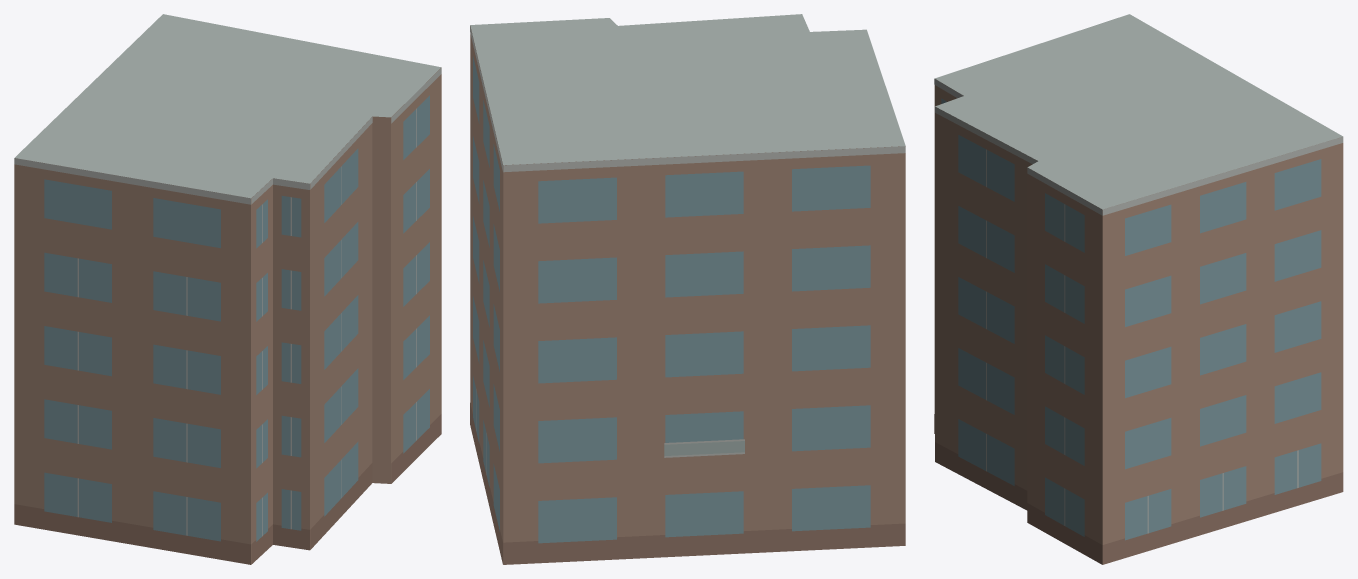
File: survey-upis-32744855.glb
The picture shows the model from 3 angles, left to right: view 1: azimuth 30°, elevation 25°; view 2: azimuth 150°, elevation 25°; view 3: azimuth 270°, elevation 25°; orthographic projection. The views are drawn at different scales.
Parts seen in each view (by area): view 1: survey-upis-32744855.tmp; view 2: survey-upis-32744855.tmp; view 3: survey-upis-32744855.tmp.
Part boxes in pixels (x1,y1,x2,y2): survey-upis-32744855.tmp: (14, 14, 441, 564); survey-upis-32744855.tmp: (470, 14, 905, 564); survey-upis-32744855.tmp: (934, 14, 1343, 564).
Size of the model in its own units: 16.41 by 13.9 by 14.5.
